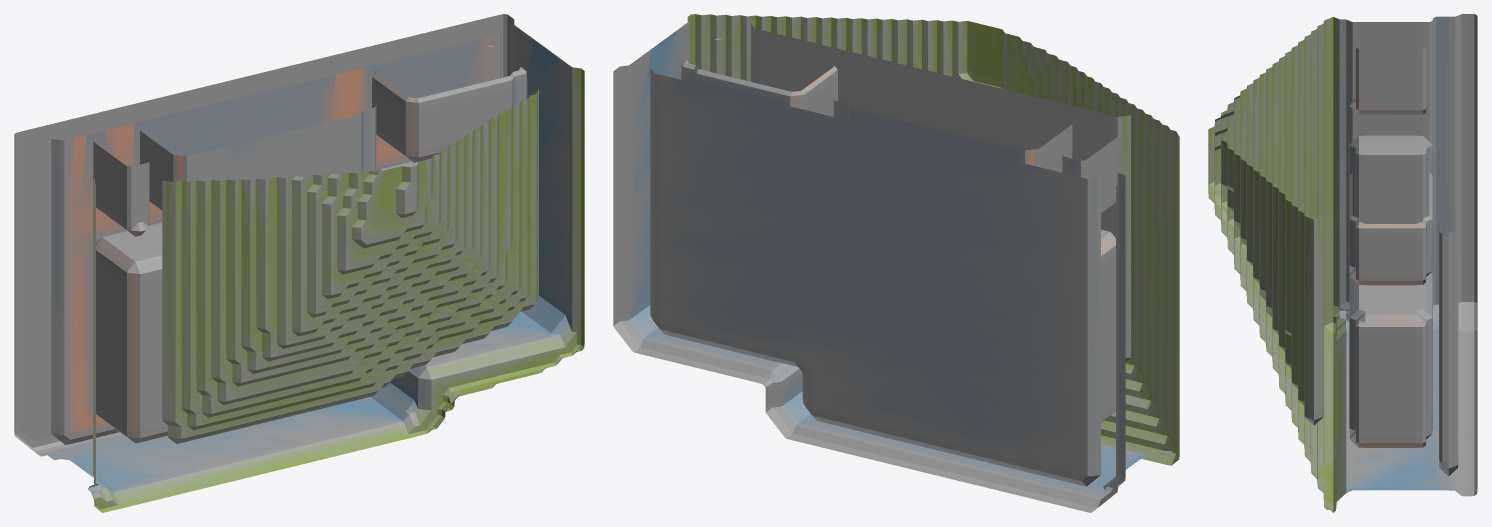
Rendered from ref_original_cutaway.glb.
The picture shows the model from 3 angles, left to right: view 1: azimuth 30°, elevation 25°; view 2: azimuth 150°, elevation 25°; view 3: azimuth 270°, elevation 25°; orthographic projection. The views are drawn at different scales.
Visible parts, largest first — view 1: world; view 2: world; view 3: world.
Part boxes in pixels (x1,y1,x2,y2): world: [14, 14, 584, 512]; world: [613, 14, 1179, 512]; world: [1208, 14, 1477, 512].
Bounding box in the file's own units: 85 × 53.97 × 42.
